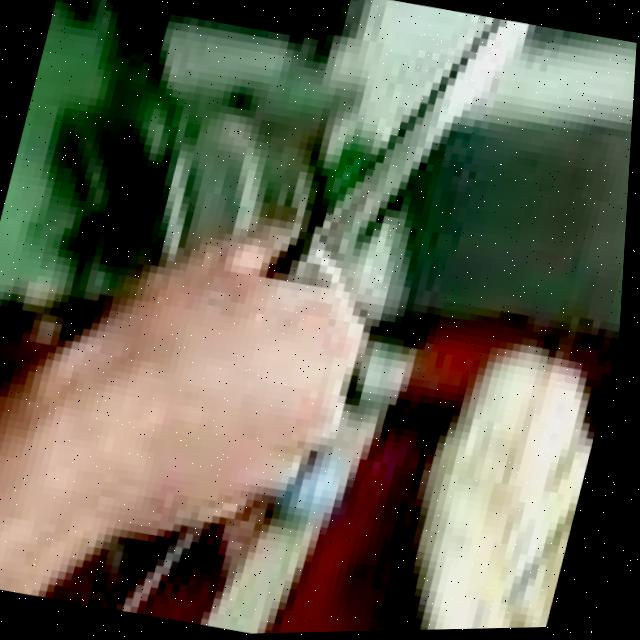knife: (289, 0, 552, 320)
